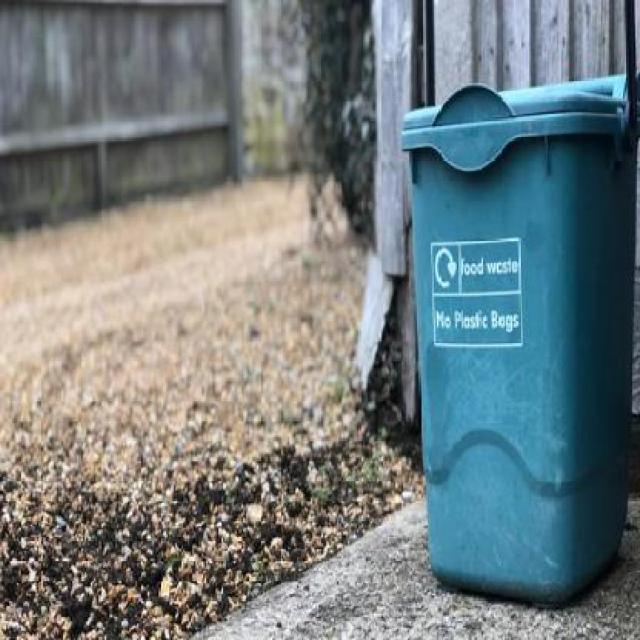garbage container: (397, 66, 640, 625)
